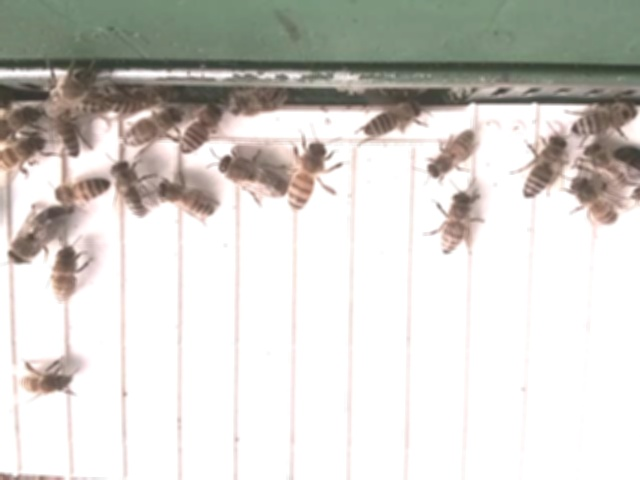Drone: (2, 204, 70, 269), (214, 152, 289, 202)
Worker: (520, 131, 567, 202), (285, 140, 329, 215), (424, 128, 477, 182), (153, 180, 218, 221), (108, 159, 151, 220), (570, 177, 620, 229), (436, 191, 474, 259), (121, 108, 182, 150), (176, 107, 224, 158), (358, 104, 422, 142), (569, 105, 636, 141), (14, 368, 77, 398), (50, 243, 78, 307), (47, 112, 82, 163), (53, 177, 111, 206)
